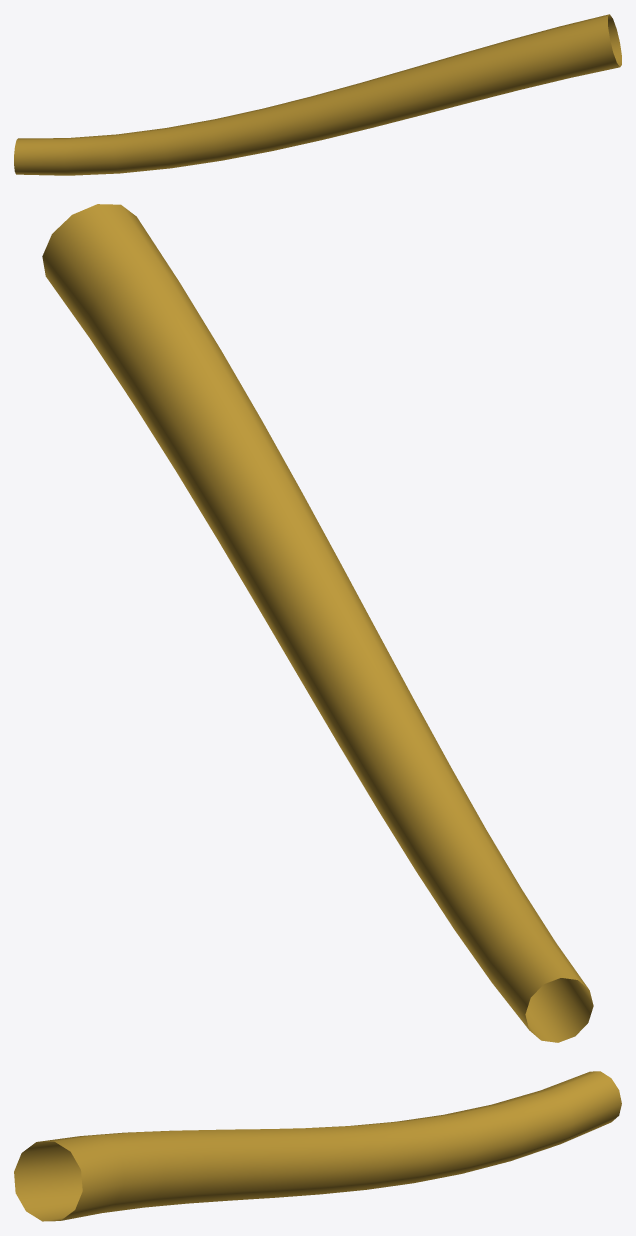
3 renders of one model, top to bottom at view 1: azimuth 30°, elevation 25°; view 2: azimuth 150°, elevation 25°; view 3: azimuth 270°, elevation 25°, orthographic. The views are drawn at different scales.
Visible parts, largest first — view 1: 右侧臂丛中干前股; view 2: 右侧臂丛中干前股; view 3: 右侧臂丛中干前股.
Boxes of the visible parts, x1=… form: 右侧臂丛中干前股: x1=14, y1=14, x2=621, y2=175; 右侧臂丛中干前股: x1=42, y1=204, x2=593, y2=1042; 右侧臂丛中干前股: x1=14, y1=1071, x2=621, y2=1221.
Size of the model in its own units: 0.0412 by 0.0168 by 0.0325.
